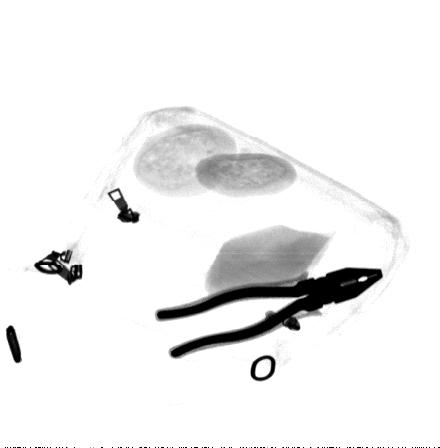Pliers: (155, 267, 384, 360)
